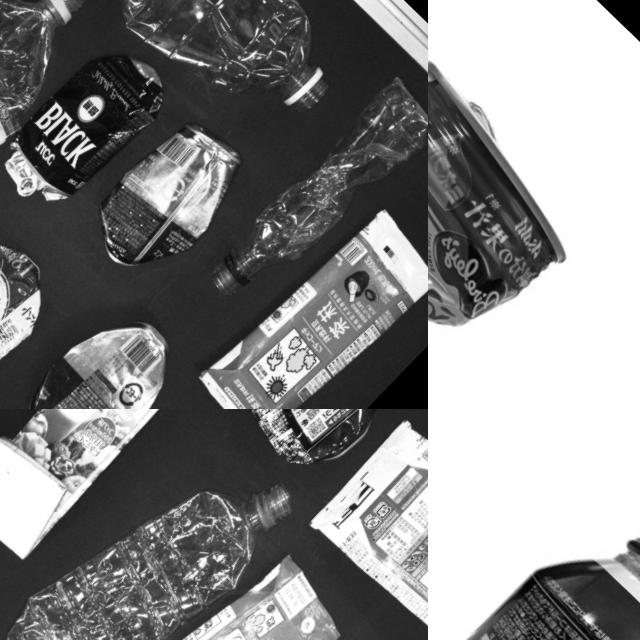Aluminium Foil: (195, 203, 428, 409), (0, 409, 291, 567), (292, 409, 428, 640), (79, 544, 348, 640)
Can: (428, 6, 616, 409), (428, 458, 640, 640), (0, 36, 179, 242), (80, 110, 259, 290), (13, 300, 190, 409), (202, 409, 421, 491)
Transparent Plastic Bottle: (0, 409, 322, 640), (207, 73, 428, 319), (91, 0, 364, 164), (0, 0, 108, 274)
